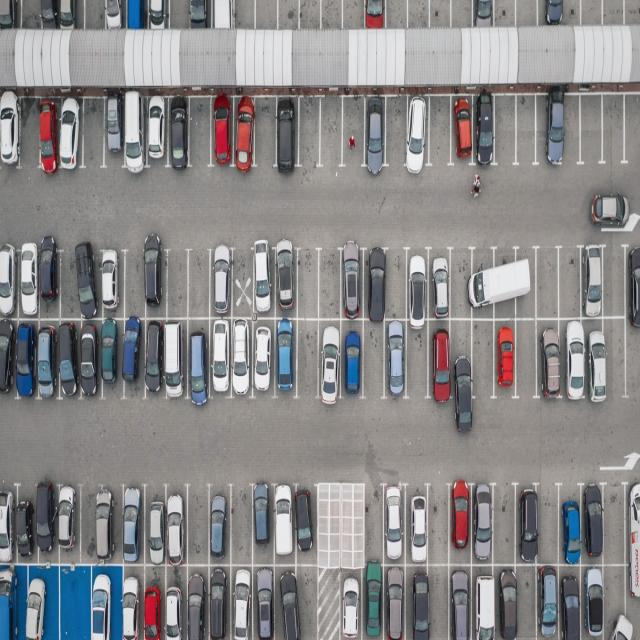space-empty: (57, 562, 94, 638), (186, 488, 214, 566), (469, 318, 495, 399), (293, 319, 319, 397), (603, 318, 629, 396), (231, 487, 256, 568), (423, 564, 450, 638), (405, 321, 430, 398), (600, 245, 626, 319), (292, 564, 318, 638), (361, 320, 386, 396), (492, 486, 516, 565), (513, 320, 537, 398), (340, 97, 367, 166), (426, 96, 452, 167), (188, 97, 214, 168), (254, 97, 280, 168), (361, 488, 384, 568), (82, 98, 108, 168), (492, 93, 517, 165), (228, 248, 253, 320), (292, 251, 318, 320), (296, 97, 322, 166), (426, 483, 448, 564), (604, 563, 628, 637), (534, 250, 559, 320), (320, 96, 345, 166), (316, 251, 341, 320), (166, 250, 191, 319), (602, 486, 624, 564), (382, 97, 406, 168), (557, 250, 582, 318), (381, 250, 405, 320), (580, 94, 604, 164), (603, 95, 627, 165), (538, 490, 560, 566), (515, 94, 538, 165), (60, 247, 83, 318), (449, 250, 473, 318), (186, 251, 210, 318), (124, 251, 148, 317), (516, 566, 538, 638), (20, 99, 42, 171), (78, 488, 98, 562), (318, 491, 337, 567), (563, 94, 581, 167), (625, 320, 640, 396), (624, 95, 640, 164), (318, 0, 342, 31), (342, 0, 366, 30), (384, 0, 408, 30), (298, 0, 322, 30), (450, 0, 475, 28), (407, 0, 431, 29), (255, 0, 278, 30), (277, 0, 299, 31), (85, 0, 107, 31), (429, 0, 453, 28), (168, 0, 190, 30), (21, 0, 43, 30), (515, 0, 538, 28), (234, 0, 256, 29), (493, 0, 515, 27), (601, 0, 624, 25), (581, 0, 603, 25), (624, 0, 640, 24)
space-occupied: (23, 561, 64, 638), (86, 562, 120, 638), (560, 318, 590, 398), (164, 320, 192, 400), (186, 318, 213, 399), (160, 489, 188, 567), (225, 563, 254, 638), (184, 563, 213, 638), (251, 319, 278, 398), (205, 562, 233, 638), (122, 318, 148, 398), (446, 482, 472, 562), (121, 484, 147, 564), (537, 321, 564, 398), (471, 564, 499, 638), (272, 317, 298, 396), (338, 318, 364, 397), (207, 319, 233, 398), (55, 484, 82, 560), (94, 486, 121, 562), (540, 93, 568, 166), (380, 483, 405, 564), (162, 565, 189, 640), (120, 565, 147, 640), (33, 319, 58, 399), (140, 563, 166, 639), (227, 319, 252, 398), (587, 318, 612, 397), (579, 319, 603, 401), (449, 317, 472, 402), (448, 564, 474, 639), (208, 486, 233, 564), (100, 250, 128, 319), (492, 319, 518, 393), (253, 243, 279, 317), (405, 94, 431, 168), (122, 96, 148, 170), (317, 316, 341, 396), (491, 247, 518, 318), (472, 483, 496, 562), (429, 322, 453, 401), (406, 484, 430, 563), (534, 565, 559, 640), (380, 563, 405, 638), (208, 96, 234, 168), (272, 246, 298, 318), (142, 96, 168, 168), (142, 486, 166, 564), (449, 96, 476, 165), (58, 320, 81, 401), (340, 569, 366, 640), (253, 484, 276, 564), (13, 319, 36, 399), (272, 486, 296, 562), (208, 248, 234, 318), (274, 97, 300, 167), (361, 250, 387, 320), (274, 563, 298, 638), (144, 319, 167, 397), (558, 565, 582, 639), (578, 563, 602, 637), (254, 564, 278, 638), (405, 564, 429, 638), (167, 98, 192, 169), (472, 247, 497, 318), (79, 320, 101, 400), (364, 94, 388, 167), (560, 491, 584, 564), (229, 96, 254, 166), (59, 98, 84, 168), (292, 490, 315, 566), (34, 484, 57, 560), (101, 316, 123, 395), (14, 247, 38, 319), (384, 321, 407, 396), (426, 252, 452, 318), (16, 484, 38, 562), (580, 246, 604, 317), (406, 251, 431, 319), (0, 563, 22, 640), (512, 248, 536, 318), (37, 244, 60, 317), (494, 567, 517, 640), (340, 250, 365, 317), (81, 246, 104, 318), (516, 488, 538, 563), (473, 97, 496, 168), (144, 249, 168, 317), (104, 98, 127, 168), (360, 567, 382, 640), (583, 488, 604, 563), (39, 98, 60, 170), (1, 95, 20, 169), (0, 490, 17, 567), (0, 245, 18, 317), (625, 482, 640, 563), (0, 319, 14, 397), (540, 0, 580, 25), (627, 245, 640, 319), (627, 563, 640, 619), (147, 0, 171, 30), (362, 0, 386, 30), (126, 0, 150, 30), (55, 0, 80, 28), (187, 0, 211, 29), (209, 0, 233, 28), (473, 0, 497, 27), (104, 0, 126, 29), (0, 0, 20, 29), (39, 0, 58, 29), (70, 0, 85, 30)
